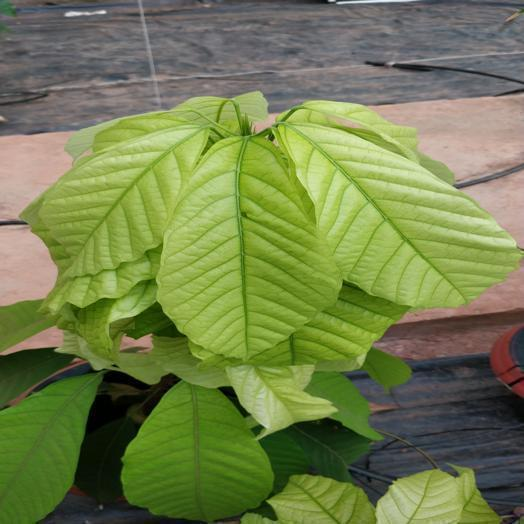Healthy Leaf: (121, 381, 273, 521), (0, 373, 102, 523), (305, 372, 381, 438), (286, 421, 369, 480), (0, 348, 72, 407), (261, 430, 308, 492), (362, 348, 410, 391)
Iron: (277, 123, 517, 306), (157, 138, 341, 359), (41, 124, 207, 275), (22, 197, 160, 313), (250, 284, 404, 365), (227, 365, 336, 438), (293, 100, 417, 159), (76, 284, 155, 356), (56, 333, 166, 384), (268, 476, 374, 523), (377, 469, 463, 523), (149, 337, 228, 387), (94, 112, 186, 152), (171, 91, 267, 129), (0, 299, 54, 350), (454, 467, 499, 523)
